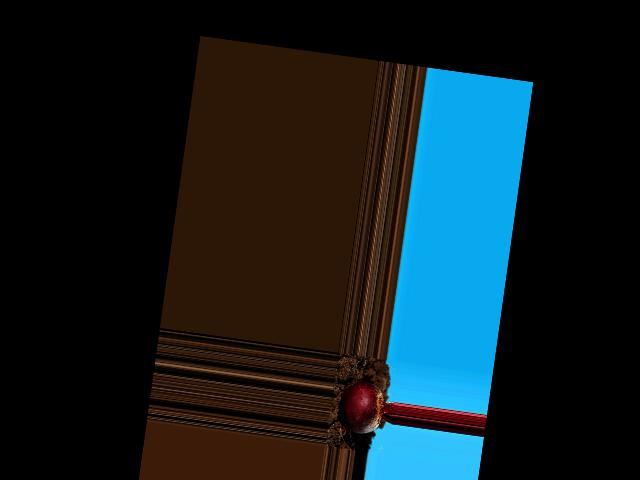beet: (336, 378, 397, 438)
